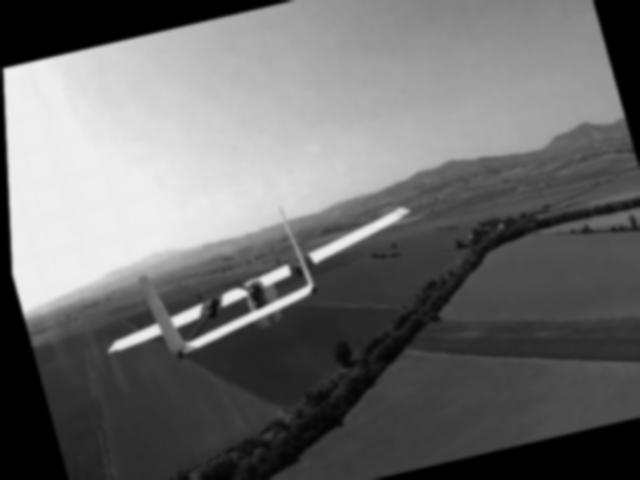hedef: (72, 168, 442, 382)
